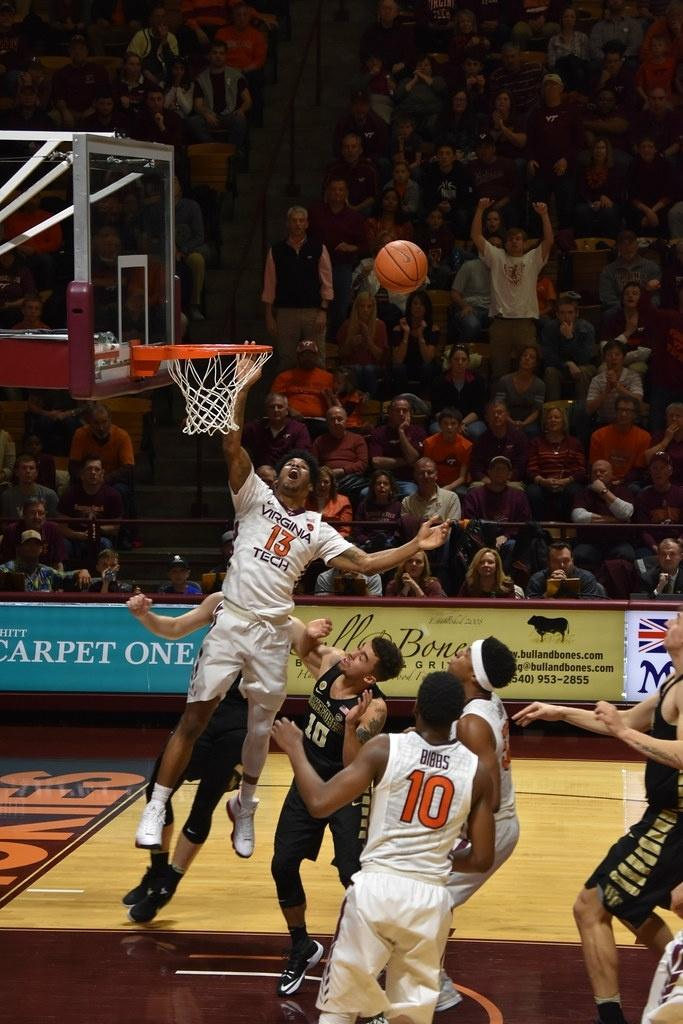basketball-player: (123, 352, 452, 873), (256, 676, 510, 1024), (510, 594, 683, 1021), (262, 626, 412, 1024), (440, 604, 532, 1024)
